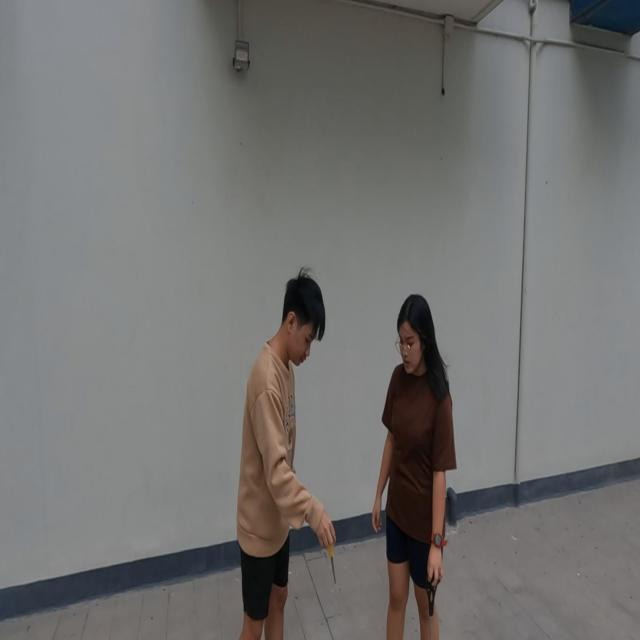scissor: (424, 572, 442, 639), (326, 531, 338, 586)
